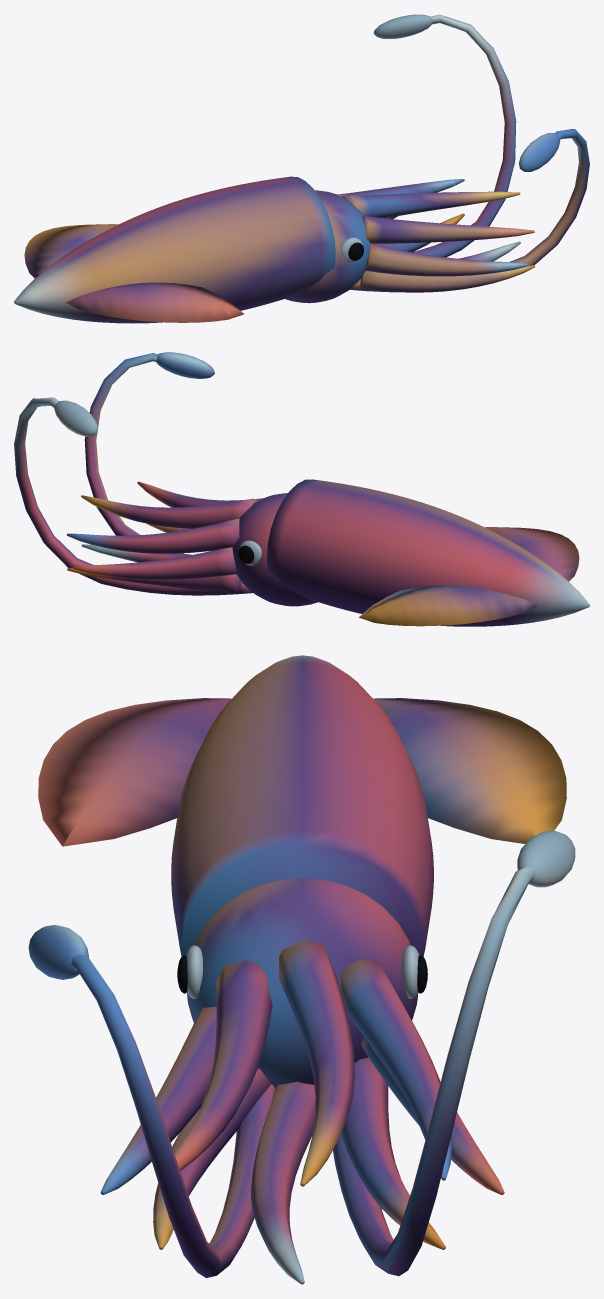
Rendered from Fusion_Squid.glb.
3 renders of one model, top to bottom at view 1: azimuth 30°, elevation 25°; view 2: azimuth 150°, elevation 25°; view 3: azimuth 270°, elevation 25°, orthographic. The views are drawn at different scales.
Visible parts, largest first — view 1: Fusion_Squid; view 2: Fusion_Squid; view 3: Fusion_Squid.
Part boxes in pixels (<box>): Fusion_Squid: <box>14,14,589,323</box>; Fusion_Squid: <box>14,352,589,626</box>; Fusion_Squid: <box>28,655,575,1284</box>.
Bounding box in the file's own units: 1.55 × 0.5824 × 0.6843.
